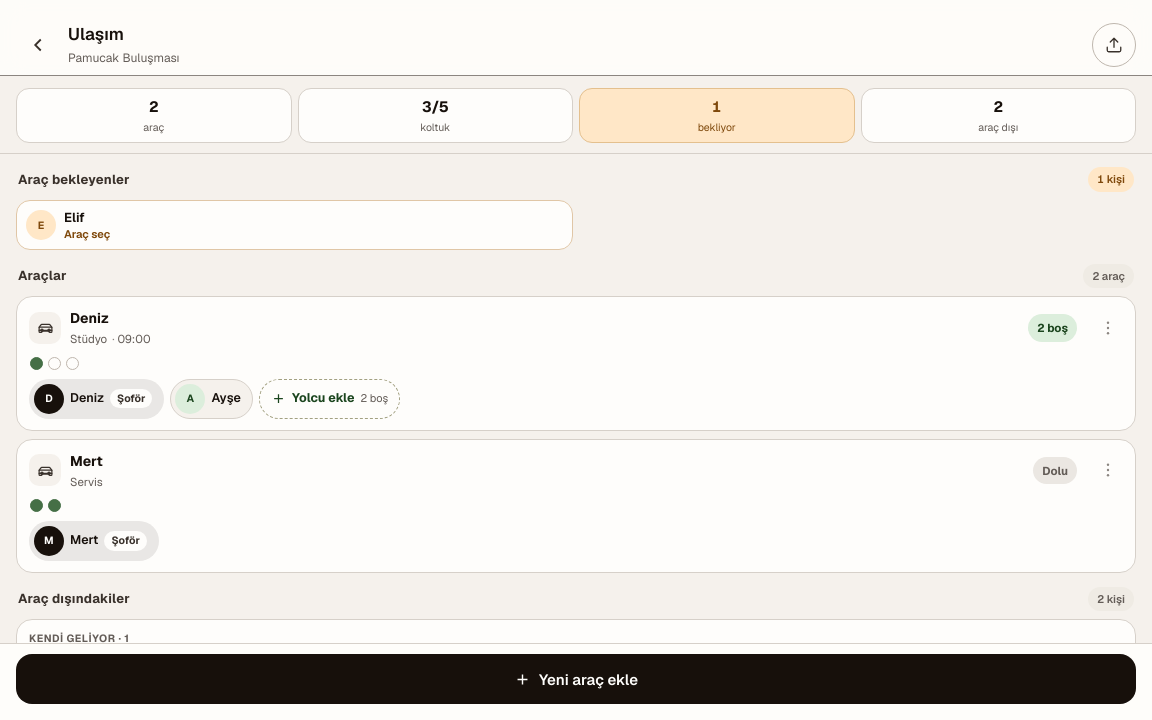
Scenario: Mobil etkinlik ulaşım planı › atanmış yolcuyu araçtan çıkarıp kendi geliyor olarak işaretler
Step 1. Click the button with aria-label "Ayşe için aracı değiştir" → point(212, 398), box [170,378,253,418]
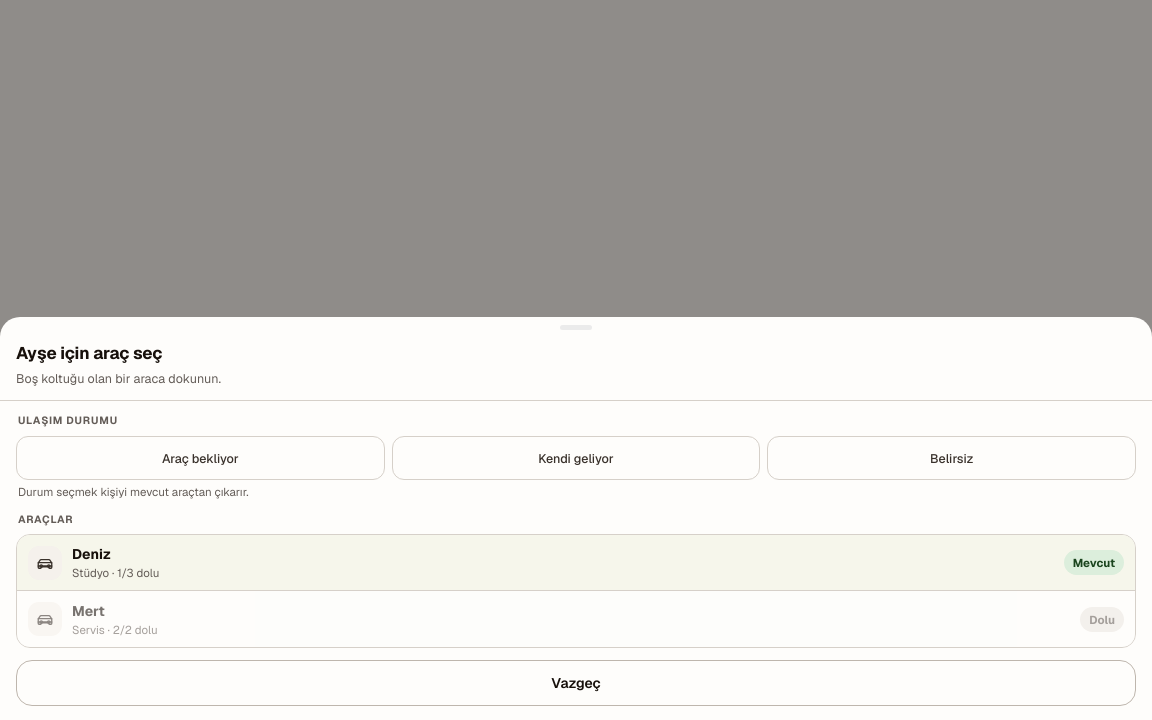
Step 2. Click the button "Kendi geliyor" → point(576, 458), box [392,436,760,480]
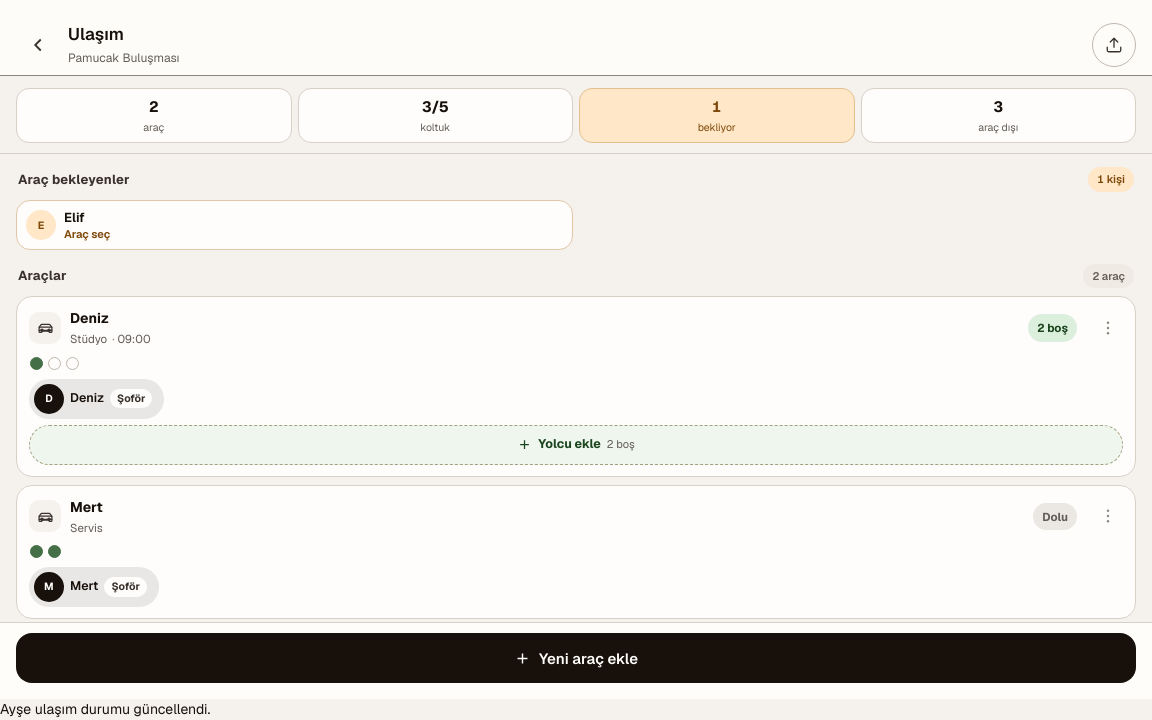
Now the text "Ayşe ulaşım durumu güncellendi." is shown, box [0,700,210,718]
